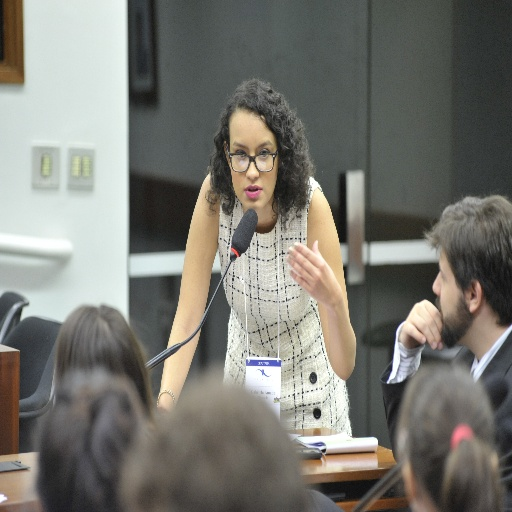hand: (290, 244, 336, 302), (400, 297, 444, 352)
